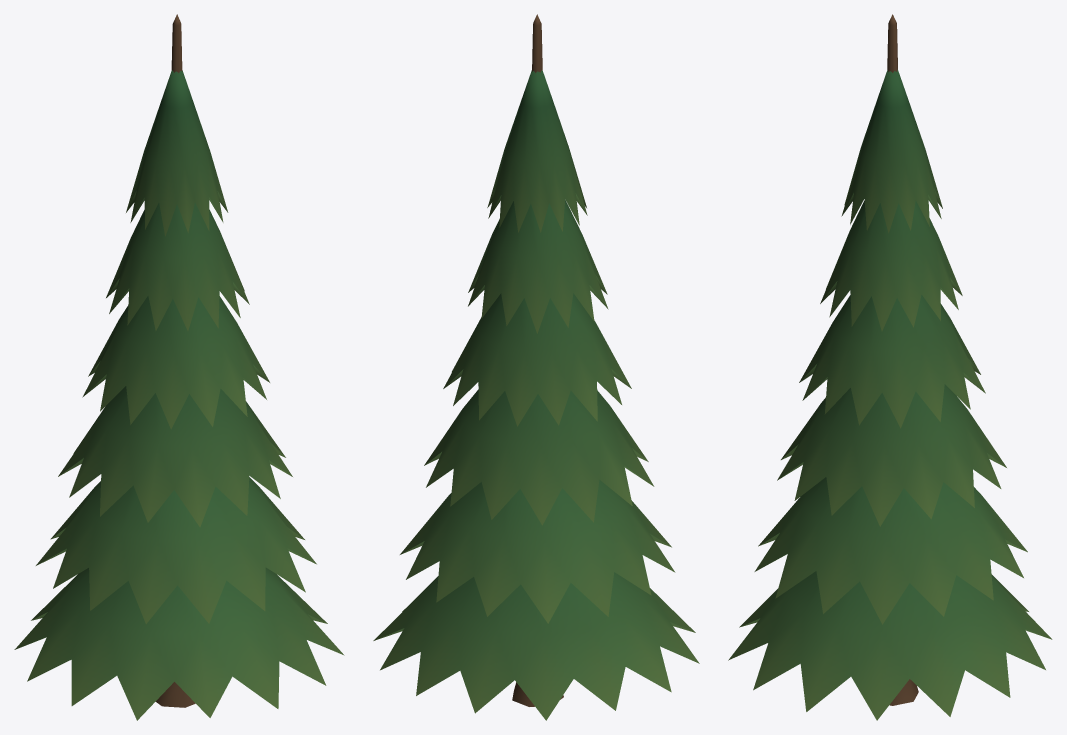
The model's file is decor_conifere_automne_1.glb.
The picture shows the model from 3 angles, left to right: view 1: azimuth 30°, elevation 25°; view 2: azimuth 150°, elevation 25°; view 3: azimuth 270°, elevation 25°; orthographic projection.
Visible parts, largest first — view 1: feuillage, tronc; view 2: feuillage, tronc; view 3: feuillage, tronc.
Part boxes in pixels (x1,y1,x2,y2): feuillage: (14, 70, 344, 720); tronc: (155, 14, 195, 707); feuillage: (373, 70, 699, 720); tronc: (512, 14, 563, 706); feuillage: (728, 69, 1052, 720); tronc: (887, 14, 918, 705).
Bounding box in the file's own units: 0.3678 × 0.84 × 0.3634.
